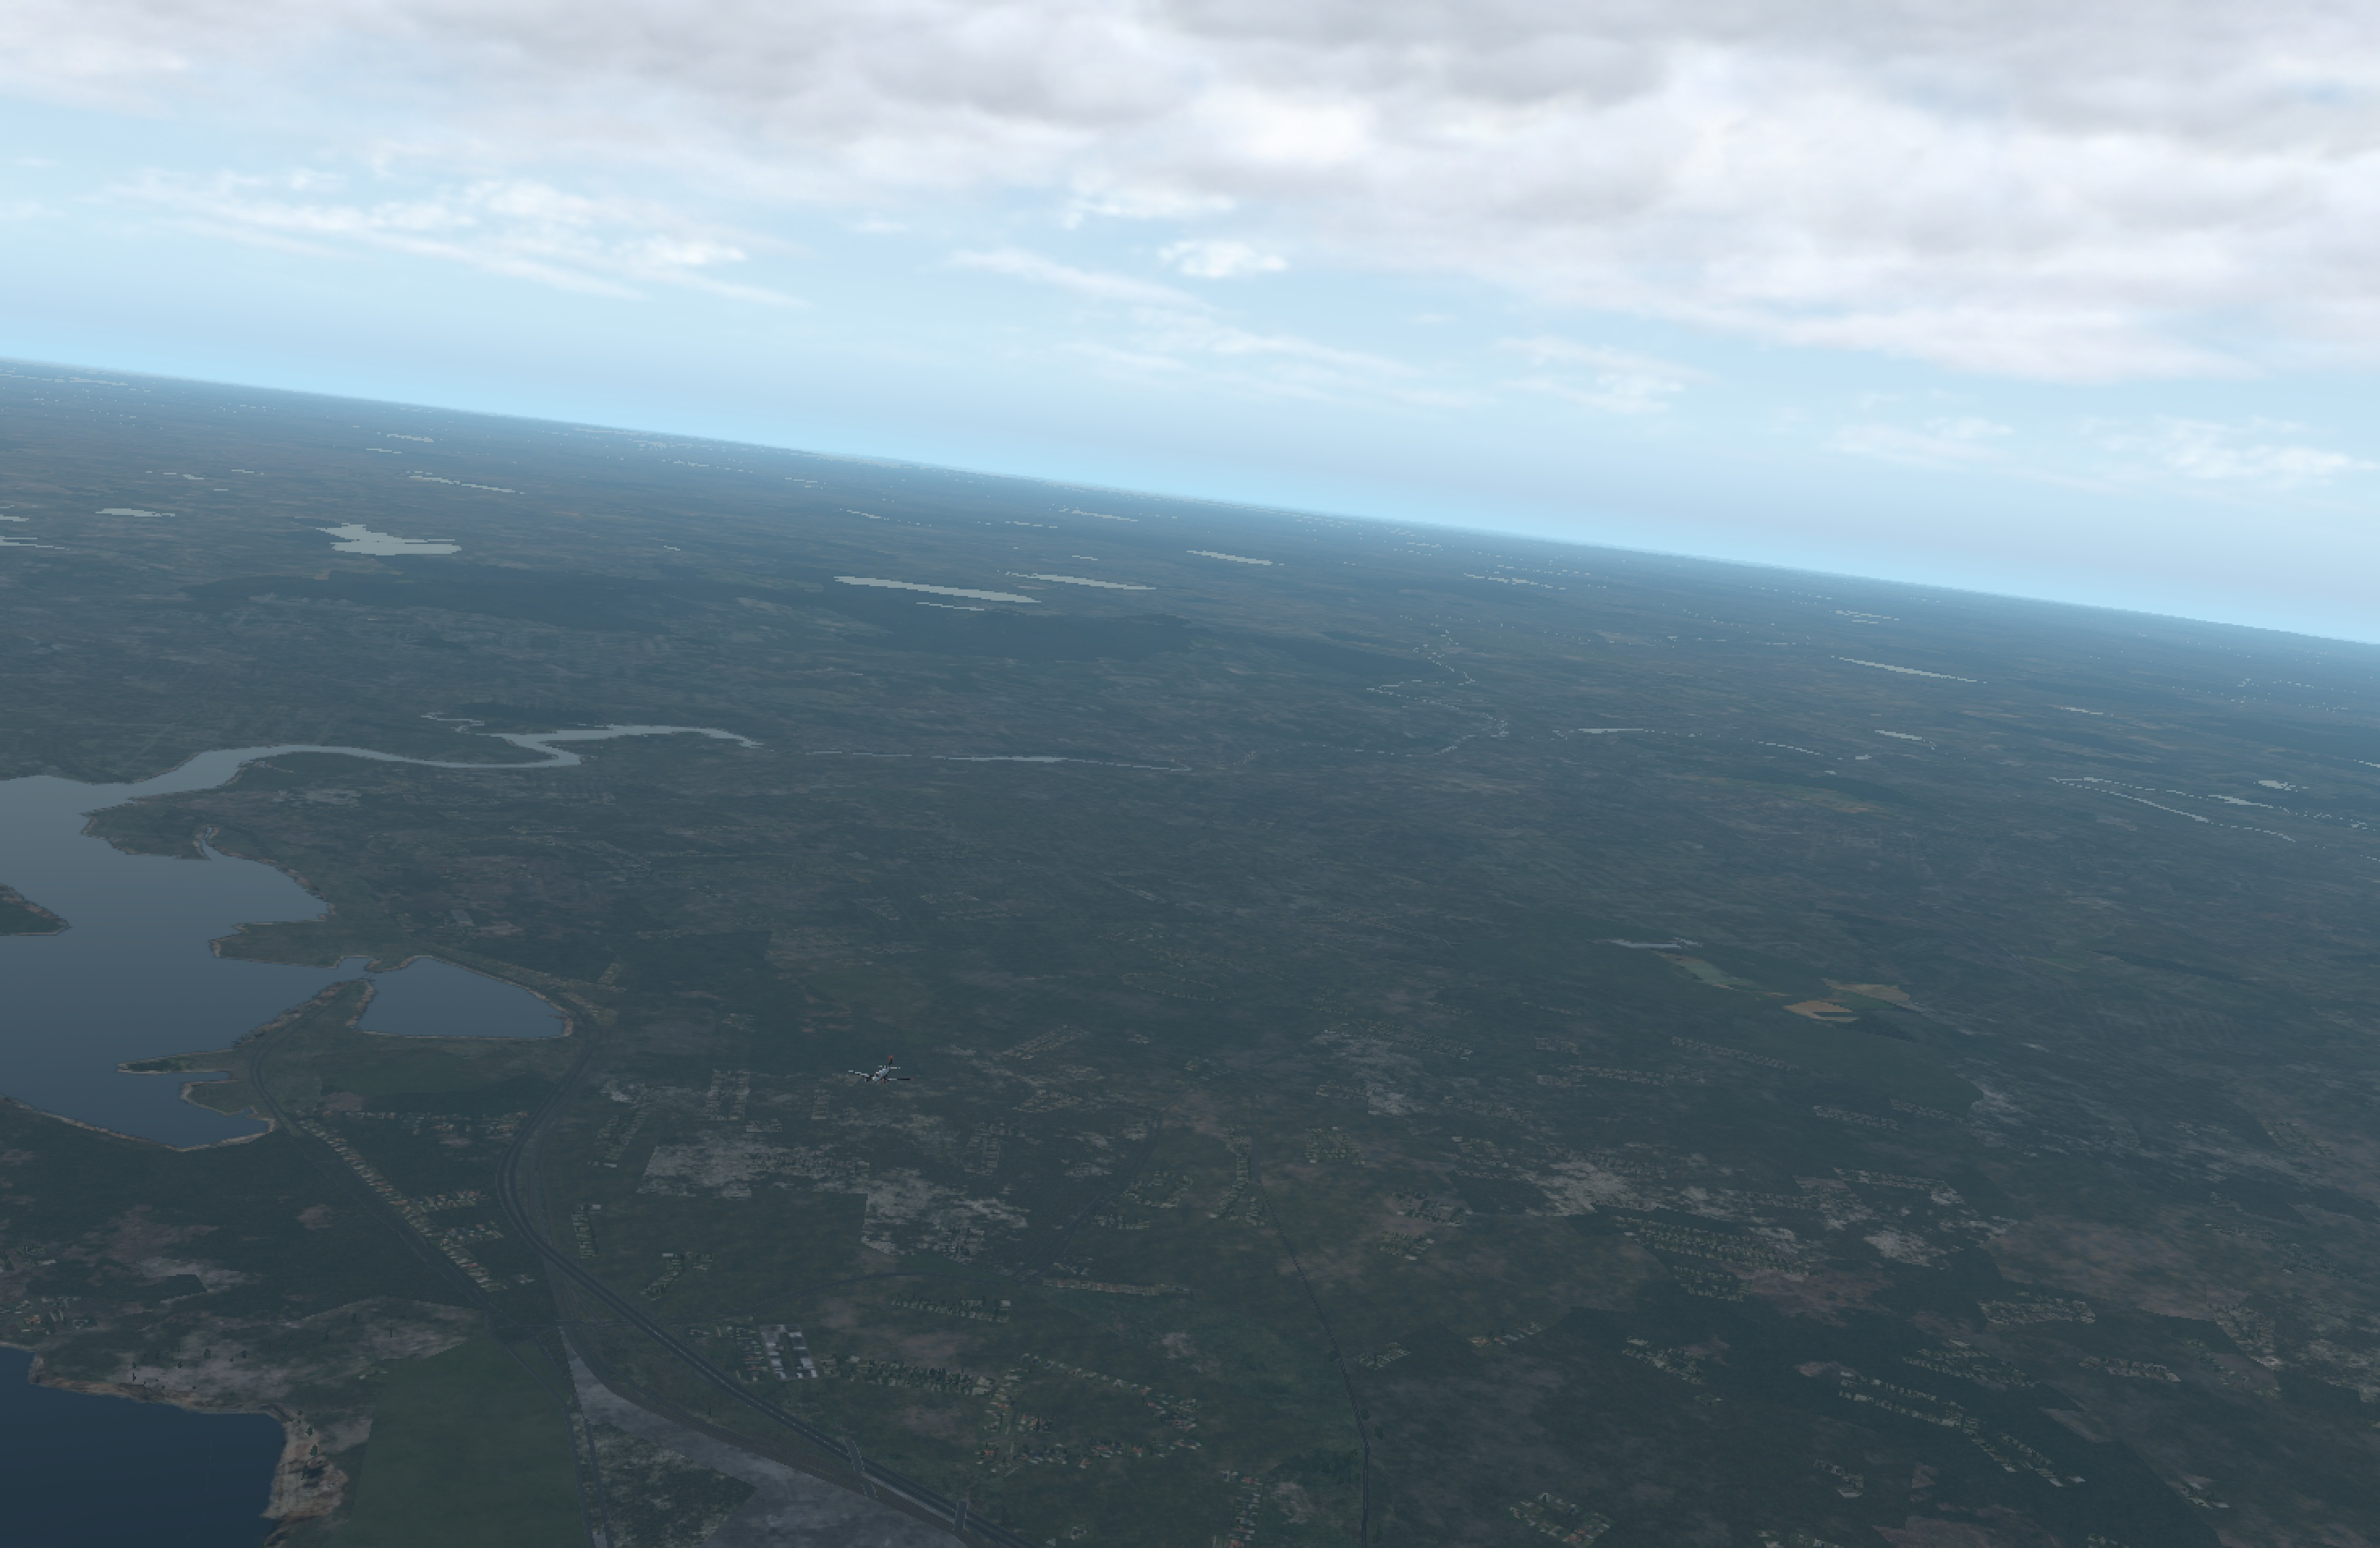aircraft: (843, 1066, 914, 1093)
